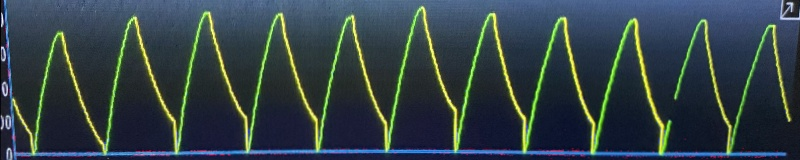leakage: (23, 1, 729, 156)
